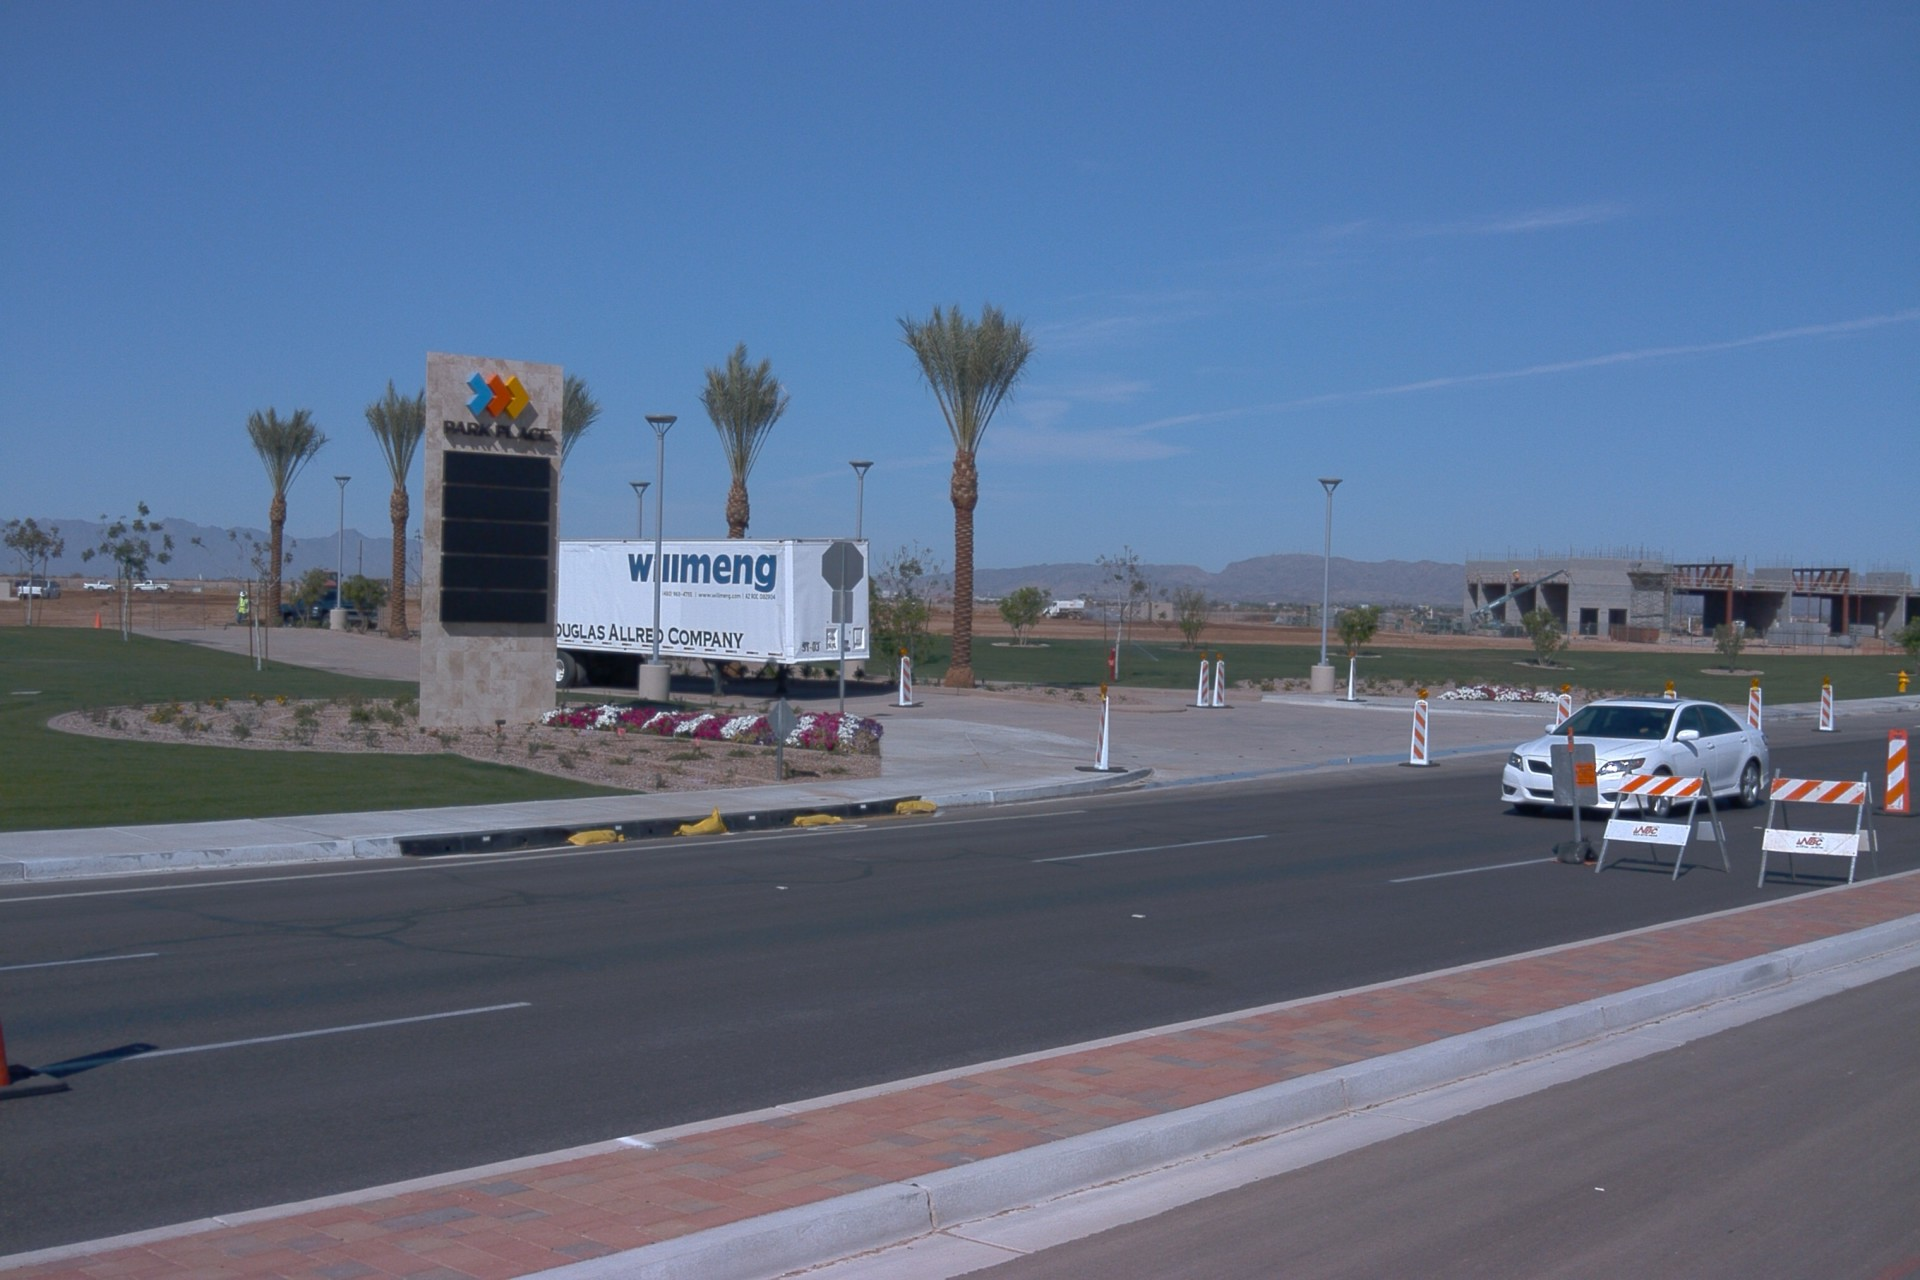TYPE_PEDESTRIAN: (236, 591, 252, 627)
TYPE_VEHICLE: (553, 533, 875, 698), (1498, 696, 1772, 819), (1468, 565, 1572, 627), (280, 582, 376, 628), (1040, 594, 1091, 616), (18, 575, 69, 597), (130, 576, 172, 591), (76, 577, 118, 591), (372, 575, 392, 590)
